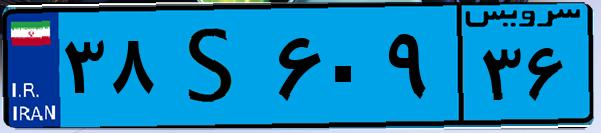0: (330, 28, 385, 110)
3: (57, 26, 110, 100), (475, 38, 525, 113)
6: (270, 28, 330, 110), (525, 38, 570, 115)
8: (110, 28, 158, 98)
9: (385, 28, 445, 110)
S: (158, 12, 270, 120)
